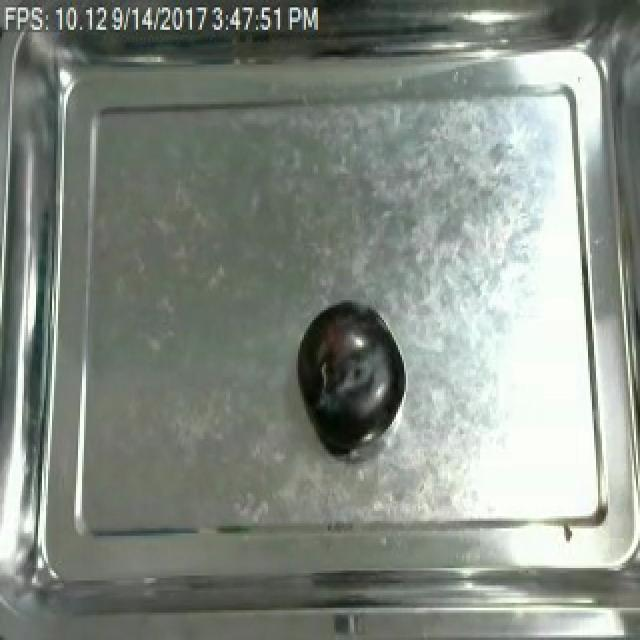Fruit: (292, 298, 408, 457)
